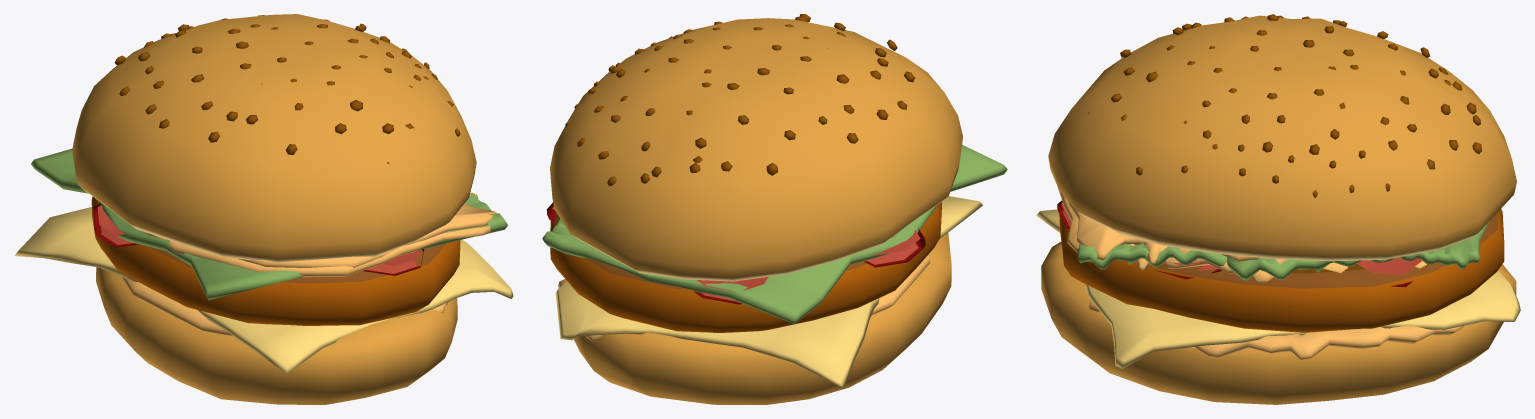
Rendered from burger.glb.
The picture shows the model from 3 angles, left to right: view 1: azimuth 30°, elevation 25°; view 2: azimuth 150°, elevation 25°; view 3: azimuth 270°, elevation 25°; orthographic projection. The views are drawn at different scales.
Parts seen in each view (by area): view 1: Pain haut; view 2: Pain haut; view 3: Pain haut.
Boxes of the visible parts, x1,y1,x2,y2 form: Pain haut: (14, 14, 513, 404); Pain haut: (542, 14, 1007, 404); Pain haut: (1036, 14, 1520, 404).
Size of the model in its own units: 1.39 by 1.14 by 1.66.
